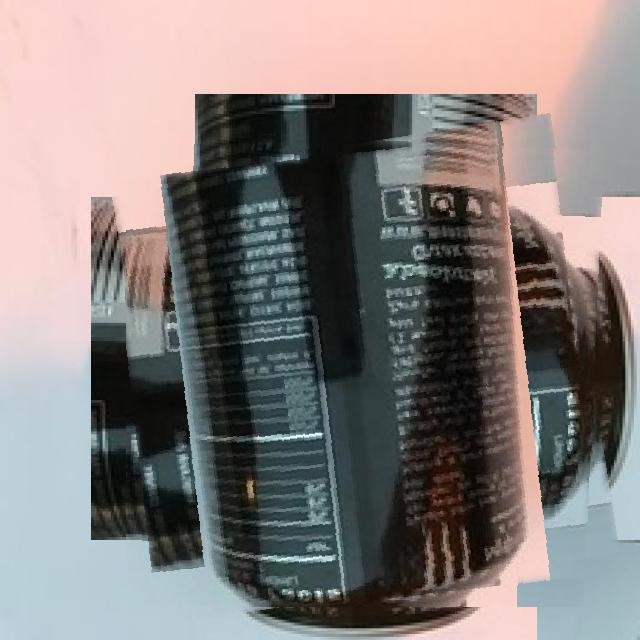recyclable: (126, 130, 604, 608)
